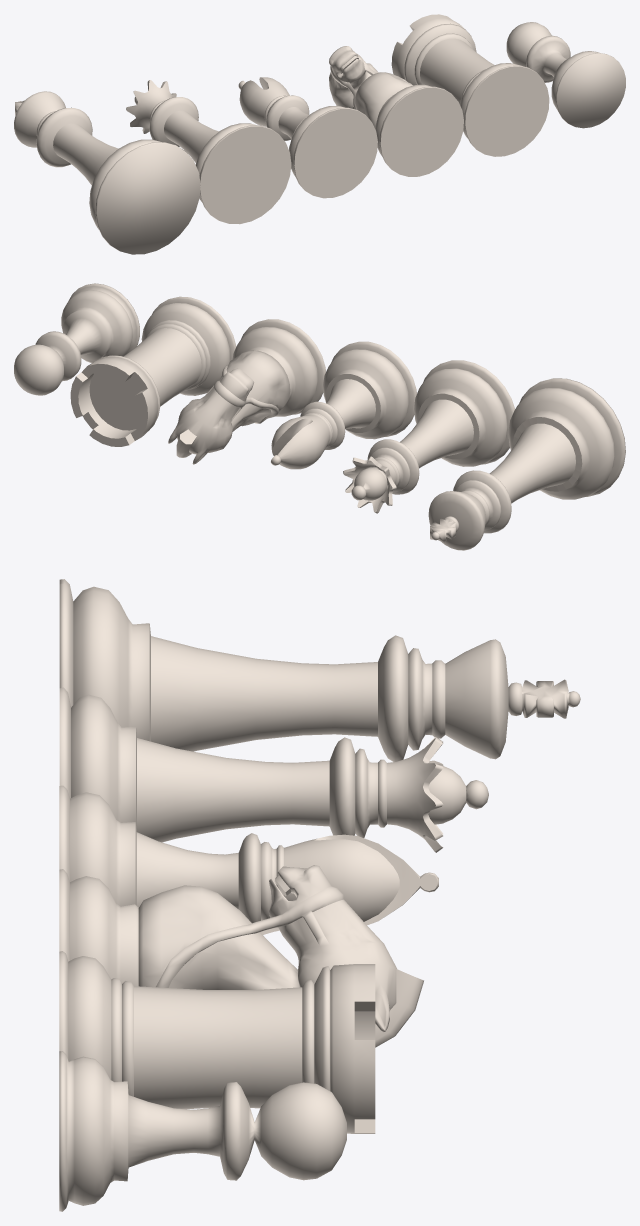
The model's file is chess pieces.dae.
3 views of the same model, one above another, from view 1: azimuth 30°, elevation 25°; view 2: azimuth 150°, elevation 25°; view 3: azimuth 270°, elevation 25° (orthographic). The views are drawn at different scales.
Visible parts, largest first — view 1: King, Rook, Queen, Knight, Bishop, Pawn; view 2: King, Rook, Queen, Knight, Bishop, Pawn; view 3: King, Rook, Queen, Knight, Pawn, Bishop.
Boxes of the visible parts, x1,y1,x2,y2 form: King: [14, 91, 200, 254]; Rook: [391, 14, 549, 156]; Queen: [126, 80, 291, 224]; Knight: [329, 46, 463, 176]; Bishop: [238, 77, 377, 198]; Pawn: [506, 22, 625, 128]; King: [428, 378, 625, 550]; Rook: [70, 296, 236, 446]; Queen: [343, 360, 514, 513]; Knight: [168, 319, 325, 464]; Bishop: [271, 341, 416, 469]; Pawn: [14, 283, 139, 395]; King: [59, 579, 580, 761]; Rook: [59, 951, 375, 1133]; Queen: [59, 687, 488, 852]; Knight: [59, 865, 423, 1047]; Pawn: [59, 1051, 346, 1211]; Bishop: [59, 785, 438, 925].
Bounding box in the file's own units: 8.58 × 3.66 × 1.69.
